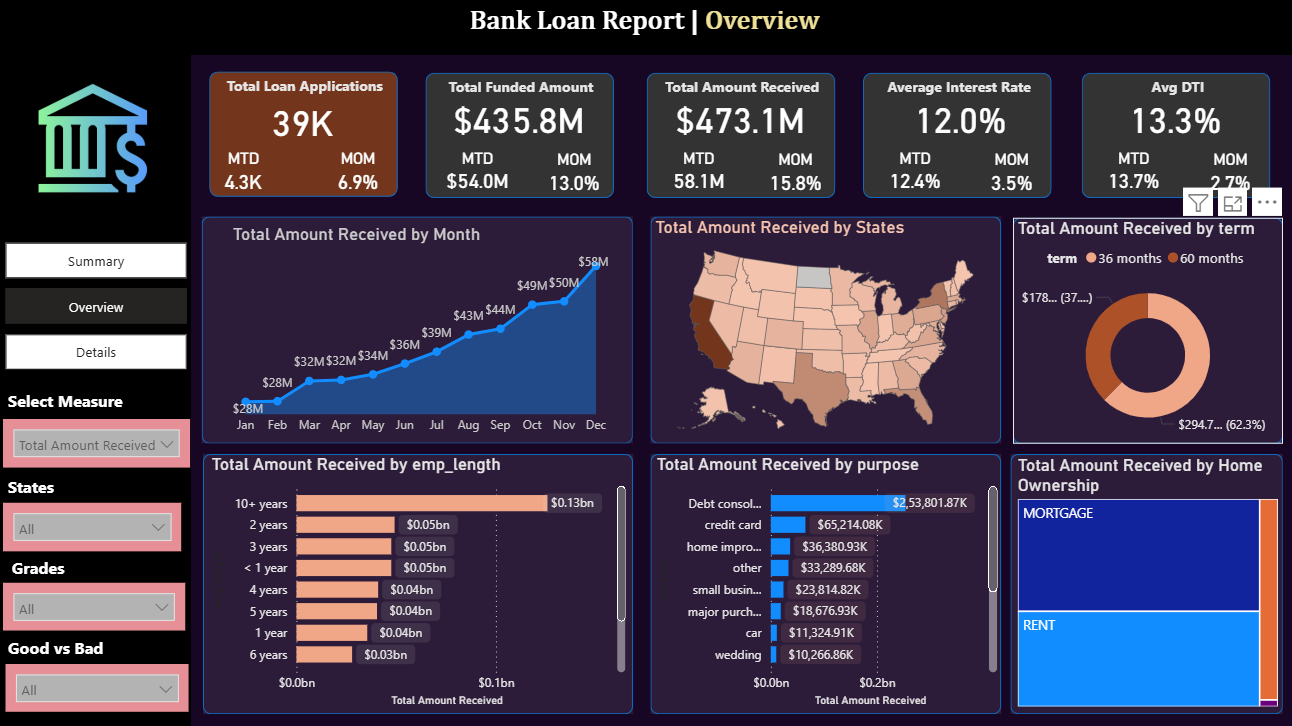

This screenshot's page, from the dashboard's own definition file:
{"tool":"powerbi","page":{"name":"Overview","canvas":[1280,720],"ordinal":1},"visuals":[{"type":"shape","box":[0,54.4,190.3,666],"z":0},{"type":"shape","box":[208.2,71.9,186.2,123.8],"z":0,"group":"g1"},{"type":"shape","box":[422.7,72.4,186.2,123.8],"z":0,"group":"g2"},{"type":"shape","box":[641.1,72.4,186.2,123.8],"z":0,"group":"g3"},{"type":"shape","box":[854.2,72.4,186.2,123.8],"z":0,"group":"g4"},{"type":"shape","box":[1070.6,72.4,186.2,123.8],"z":0,"group":"g5"},{"type":"shape","box":[0,0,1280.3,55],"z":1000,"group":"g6"},{"type":"group","id":"g1","title":"Group 1","box":[207.1,70.7,188.7,125],"z":1000},{"type":"card","fields":{"Values":["Bank_Loan.Average Interrest Rate"]},"box":[856.3,95.1,187.6,44.9],"z":1000,"group":"g4"},{"type":"card","fields":{"Values":["Bank_Loan.Total Funded Amount"]},"box":[421,95.2,187.6,44.9],"z":1000,"group":"g2"},{"type":"card","fields":{"Values":["Bank_Loan.Total Amount Received"]},"box":[639.4,95.2,187.6,44.9],"z":1000,"group":"g3"},{"type":"card","fields":{"Values":["Bank_Loan.Average DTI"]},"box":[1068.9,95.2,187.6,44.9],"z":1000,"group":"g5"},{"type":"card","fields":{"Values":["Bank_Loan.Total Loan Applications"]},"box":[207.1,98.3,187.6,44.9],"z":1000,"group":"g1"},{"type":"textbox","box":[460.9,1.2,369.2,54.3],"z":2000,"group":"g6"},{"type":"card","title":"MTD","fields":{"Values":["Bank_Loan.MTD Average Interest Rate"]},"box":[857.4,147.7,95.1,46.2],"z":2000,"group":"g4"},{"type":"card","title":"MTD","fields":{"Values":["Bank_Loan.MTD Average DTI"]},"box":[1073.8,147.7,95.1,46.2],"z":2000,"group":"g5"},{"type":"card","title":"MTD","fields":{"Values":["Bank_Loan.MTD Total Funded AMount"]},"box":[425.9,147.8,95.1,46.2],"z":2000,"group":"g2"},{"type":"card","title":"MTD","fields":{"Values":["Bank_Loan.MTD Total Amount Received"]},"box":[644.3,147.8,95.1,46.2],"z":2000,"group":"g3"},{"type":"card","title":"MTD","fields":{"Values":["Bank_Loan.MTD loan Applications"]},"box":[212,148.2,59.8,47.6],"z":2000,"group":"g1"},{"type":"shape","box":[201.5,214.7,425.9,224.4],"z":2000},{"type":"group","id":"g2","title":"Group 1","box":[421,71.2,188.2,124.3],"z":3000},{"type":"card","title":"MOM","fields":{"Values":["Bank_Loan.MOM"]},"box":[315.3,148.2,78.8,47.6],"z":3000,"group":"g1"},{"type":"card","title":"MOM","fields":{"Values":["Bank_Loan.MOM Average Interrest Rate"]},"box":[961.3,148.6,78.8,47.6],"z":3000,"group":"g4"},{"type":"card","title":"MOM","fields":{"Values":["Bank_Loan.MOM Average DTI"]},"box":[1177.6,148.6,78.8,47.6],"z":3000,"group":"g5"},{"type":"card","title":"MOM","fields":{"Values":["Bank_Loan.MOM Total Funded Amount"]},"box":[529.7,148.7,78.8,47.6],"z":3000,"group":"g2"},{"type":"card","title":"MOM","fields":{"Values":["Bank_Loan.MOM TotalAmount Received"]},"box":[748.1,148.7,78.8,47.6],"z":3000,"group":"g3"},{"type":"textbox","box":[209.6,70.7,186.2,30.6],"z":4000,"group":"g1"},{"type":"textbox","box":[424,71.2,186.2,30.6],"z":4000,"group":"g2"},{"type":"group","id":"g3","title":"Group 1","box":[639.4,71.2,189.4,124.3],"z":4000},{"type":"textbox","box":[642.4,71.2,186.2,30.6],"z":4000,"group":"g3"},{"type":"textbox","box":[855.3,71.2,187.6,31.3],"z":4000,"group":"g4"},{"type":"textbox","box":[1071.7,71.2,187.6,31.3],"z":4000,"group":"g5"},{"type":"group","id":"g4","title":"Group 1","box":[854.2,71.2,189.4,124.3],"z":5000},{"type":"group","id":"g5","title":"Group 1","box":[1068.9,71.2,190.6,125.5],"z":6000},{"type":"slicer","fields":{"Values":["Bank_Loan.address_state"]},"box":[4.8,497.1,176.1,48.3],"z":7000},{"type":"slicer","fields":{"Values":["Bank_Loan.grade"]},"box":[4.8,576.7,179.8,47.1],"z":8000},{"type":"slicer","fields":{"Values":["Bank_Loan.Good vs Bad Loan"]},"box":[7.2,656.3,181,47.1],"z":9000},{"type":"group","id":"g6","title":"Group 5","box":[0,0,1280.3,55.5],"z":10000},{"type":"textbox","box":[4.8,465.7,105,31.4],"z":11000},{"type":"textbox","box":[8.4,545.3,105,31.4],"z":12000},{"type":"textbox","box":[4.8,624.9,153.2,31.4],"z":13000},{"type":"slicer","fields":{"Values":["New Measure.New Measure"]},"box":[4.8,415,184.6,48.3],"z":14000},{"type":"textbox","box":[4.8,380,166.5,35],"z":15000},{"type":"lineChart","fields":{"Y":["Bank_Loan.Total Amount Received"],"Category":["Date_Table.Month"]},"box":[226.8,222,381.2,217.2],"z":16000},{"type":"shape","box":[644.2,214.7,346.2,224.4],"z":17000},{"type":"shapeMap","fields":{"Value":["Bank_Loan.Total Amount Received"],"Category":["Bank_Loan.address_state"]},"box":[644.2,214.7,346.2,224.4],"z":18000},{"type":"shape","box":[1002.6,216,266.6,223.2],"z":19000},{"type":"donutChart","fields":{"Y":["Bank_Loan.Total Amount Received"],"Category":["Bank_Loan.term"]},"box":[1002.6,216,266.6,223.2],"z":20000},{"type":"shape","box":[202.7,448.8,424.7,257],"z":21000},{"type":"clusteredBarChart","fields":{"Y":["Bank_Loan.Total Amount Received"],"Category":["Bank_Loan.emp_length"]},"box":[206.3,448.8,418.6,254.6],"z":22000},{"type":"shape","box":[644.2,448.8,346.2,257],"z":23000},{"type":"clusteredBarChart","fields":{"Y":["Bank_Loan.Total Amount Received"],"Category":["Bank_Loan.purpose"]},"box":[645.4,448.8,346.2,254.6],"z":24000},{"type":"shape","box":[1000.1,448.8,269,257],"z":25000},{"type":"treemap","fields":{"Values":["Bank_Loan.Total Amount Received"],"Group":["Bank_Loan.home_ownership"]},"box":[1002.6,450,266.6,253.4],"z":26000},{"type":"image","box":[15.7,79.6,154.4,117],"z":27000},{"type":"pageNavigator","box":[7.2,241.3,179.8,127.9],"z":28000}]}

Visuals, with their boxes in screenshot pixels (x1, y1, x2, y2), scaled from the page's 1280x720 canvas onto the 1292x726 screenshot:
shape: x1=0, y1=55, x2=192, y2=725
shape: x1=210, y1=72, x2=398, y2=197
shape: x1=427, y1=73, x2=615, y2=198
shape: x1=647, y1=73, x2=835, y2=198
shape: x1=862, y1=73, x2=1050, y2=198
shape: x1=1081, y1=73, x2=1269, y2=198
shape: x1=0, y1=0, x2=1291, y2=55
"Group 1" group: x1=209, y1=71, x2=400, y2=197
card - Bank_Loan.Average Interrest Rate: x1=864, y1=96, x2=1054, y2=141
card - Bank_Loan.Total Funded Amount: x1=425, y1=96, x2=614, y2=141
card - Bank_Loan.Total Amount Received: x1=645, y1=96, x2=835, y2=141
card - Bank_Loan.Average DTI: x1=1079, y1=96, x2=1268, y2=141
card - Bank_Loan.Total Loan Applications: x1=209, y1=99, x2=398, y2=144
textbox: x1=465, y1=1, x2=838, y2=56
"MTD" card: x1=865, y1=149, x2=961, y2=196
"MTD" card: x1=1084, y1=149, x2=1180, y2=196
"MTD" card: x1=430, y1=149, x2=526, y2=196
"MTD" card: x1=650, y1=149, x2=746, y2=196
"MTD" card: x1=214, y1=149, x2=274, y2=197
shape: x1=203, y1=216, x2=633, y2=443
"Group 1" group: x1=425, y1=72, x2=615, y2=197
"MOM" card: x1=318, y1=149, x2=398, y2=197
"MOM" card: x1=970, y1=150, x2=1050, y2=198
"MOM" card: x1=1189, y1=150, x2=1268, y2=198
"MOM" card: x1=535, y1=150, x2=614, y2=198
"MOM" card: x1=755, y1=150, x2=835, y2=198
textbox: x1=212, y1=71, x2=400, y2=102
textbox: x1=428, y1=72, x2=616, y2=103
"Group 1" group: x1=645, y1=72, x2=837, y2=197
textbox: x1=648, y1=72, x2=836, y2=103
textbox: x1=863, y1=72, x2=1053, y2=103
textbox: x1=1082, y1=72, x2=1271, y2=103
"Group 1" group: x1=862, y1=72, x2=1053, y2=197
"Group 1" group: x1=1079, y1=72, x2=1271, y2=198
slicer - Bank_Loan.address_state: x1=5, y1=501, x2=183, y2=550
slicer - Bank_Loan.grade: x1=5, y1=582, x2=186, y2=629
slicer - Bank_Loan.Good vs Bad Loan: x1=7, y1=662, x2=190, y2=709
"Group 5" group: x1=0, y1=0, x2=1291, y2=56
textbox: x1=5, y1=470, x2=111, y2=501
textbox: x1=8, y1=550, x2=114, y2=582
textbox: x1=5, y1=630, x2=159, y2=662
slicer - New Measure.New Measure: x1=5, y1=418, x2=191, y2=467
textbox: x1=5, y1=383, x2=173, y2=418
lineChart - Bank_Loan.Total Amount Received x Date_Table.Month: x1=229, y1=224, x2=614, y2=443
shape: x1=650, y1=216, x2=1000, y2=443
shapeMap - Bank_Loan.Total Amount Received x Bank_Loan.address_state: x1=650, y1=216, x2=1000, y2=443
shape: x1=1012, y1=218, x2=1281, y2=443
donutChart - Bank_Loan.Total Amount Received x Bank_Loan.term: x1=1012, y1=218, x2=1281, y2=443
shape: x1=205, y1=453, x2=633, y2=712
clusteredBarChart - Bank_Loan.Total Amount Received x Bank_Loan.emp_length: x1=208, y1=453, x2=631, y2=709
shape: x1=650, y1=453, x2=1000, y2=712
clusteredBarChart - Bank_Loan.Total Amount Received x Bank_Loan.purpose: x1=651, y1=453, x2=1001, y2=709
shape: x1=1009, y1=453, x2=1281, y2=712
treemap - Bank_Loan.Total Amount Received x Bank_Loan.home_ownership: x1=1012, y1=454, x2=1281, y2=709
image: x1=16, y1=80, x2=172, y2=198
pageNavigator: x1=7, y1=243, x2=189, y2=372
